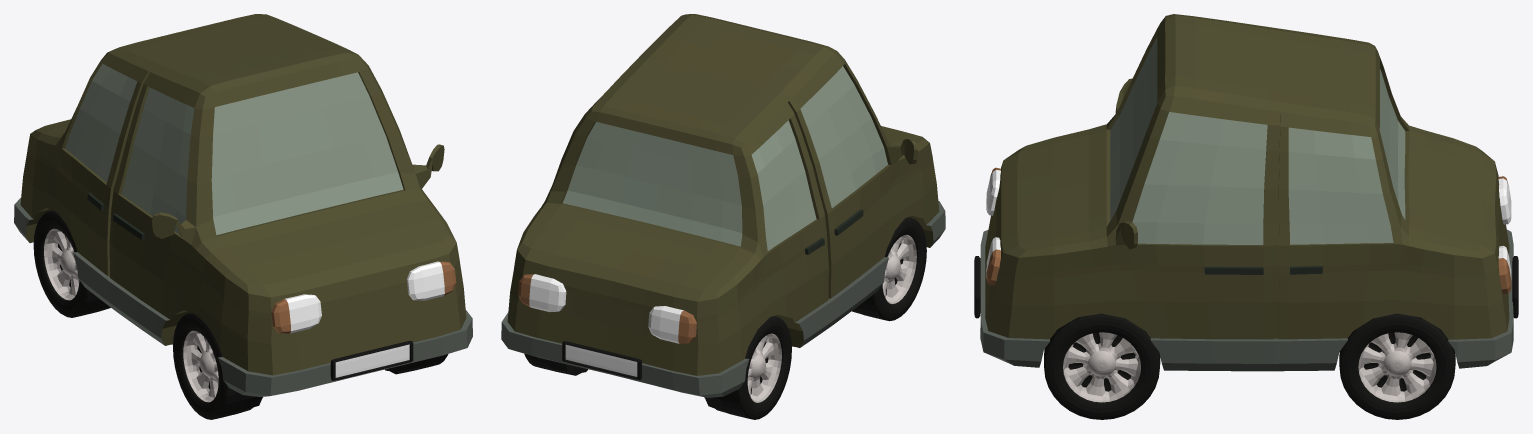
The model's file is car2-3 (1).fbx.
The picture shows the model from 3 angles, left to right: view 1: azimuth 30°, elevation 25°; view 2: azimuth 150°, elevation 25°; view 3: azimuth 270°, elevation 25°; orthographic projection. The views are drawn at different scales.
Visible parts, largest first — view 1: Cube, Cylinder.006, Cylinder.004, Cube.001, Cube.004, Cube.003, Cylinder.005; view 2: Cube, Cylinder.004, Cylinder.006, Cube.002, Cube.006, Cube.005, Cylinder.007; view 3: Cube, Cylinder.005, Cylinder.007, Cube.003, Cube.005, Cube.006.
Boxes of the visible parts, x1,y1,x2,y2 form: Cube: [14, 14, 472, 396]; Cylinder.006: [173, 312, 262, 419]; Cylinder.004: [33, 210, 110, 317]; Cube.001: [330, 341, 413, 380]; Cube.004: [271, 294, 321, 333]; Cube.003: [406, 261, 456, 300]; Cylinder.005: [385, 354, 448, 374]; Cube: [501, 14, 945, 397]; Cylinder.004: [704, 316, 791, 419]; Cylinder.006: [852, 217, 926, 321]; Cube.002: [562, 341, 641, 379]; Cube.006: [648, 306, 696, 343]; Cube.005: [518, 274, 566, 312]; Cylinder.007: [524, 353, 587, 375]; Cube: [980, 14, 1513, 371]; Cylinder.005: [1044, 313, 1160, 419]; Cylinder.007: [1339, 313, 1455, 419]; Cube.003: [986, 237, 1001, 285]; Cube.005: [1498, 245, 1511, 294]; Cube.006: [1498, 176, 1511, 224].
Size of the model in its own units: 485 by 467 by 737.
